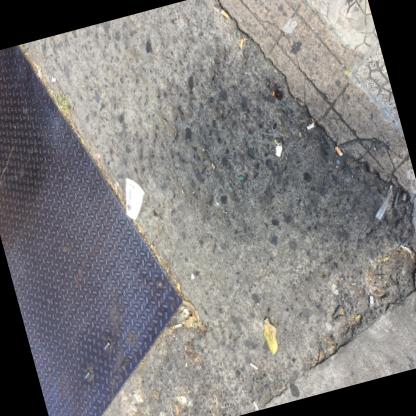Paper: (125, 176, 144, 218), (220, 8, 229, 18), (335, 145, 342, 155), (250, 361, 258, 369), (306, 122, 314, 129), (253, 400, 259, 409), (239, 37, 243, 47), (174, 322, 182, 327)
Plastic: (375, 183, 392, 218), (392, 189, 399, 208)
Waste: (275, 144, 282, 156)
